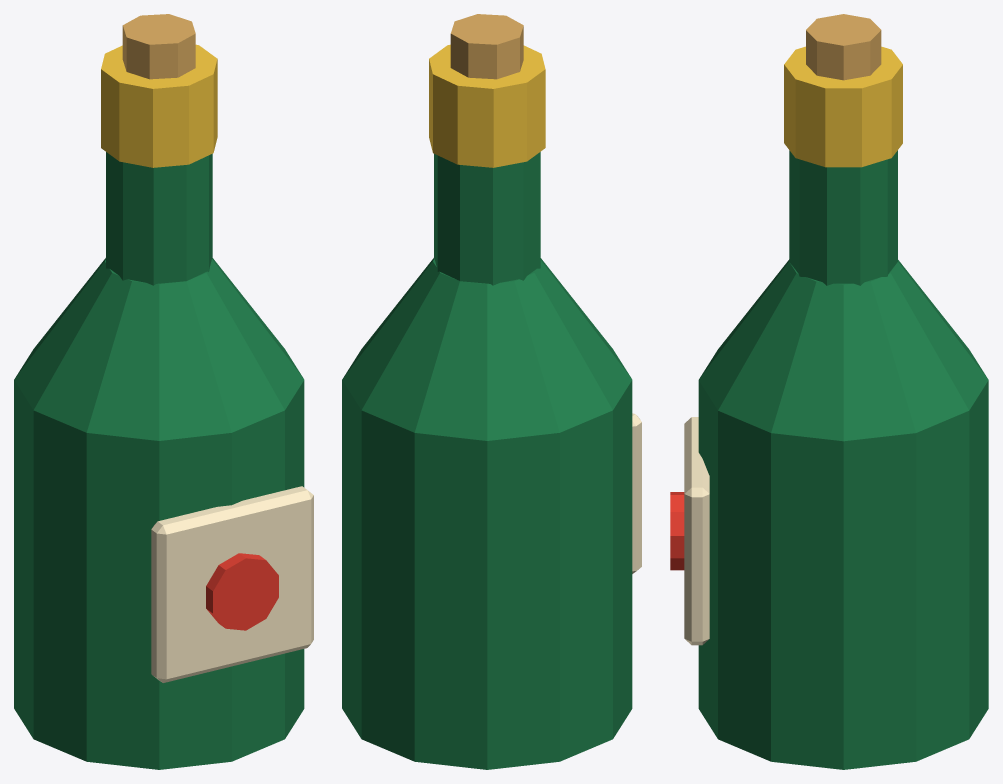
File: wine.glb
3 views of the same model, side by side, from view 1: azimuth 30°, elevation 25°; view 2: azimuth 150°, elevation 25°; view 3: azimuth 270°, elevation 25° (orthographic).
Visible parts, largest first — view 1: wine-bottle-body, wine-bottle-shoulder, wine-cream-label, wine-bottle-neck, wine-gold-foil, wine-red-label-seal, wine-cork; view 2: wine-bottle-body, wine-bottle-shoulder, wine-bottle-neck, wine-gold-foil, wine-cork, wine-cream-label; view 3: wine-bottle-body, wine-bottle-shoulder, wine-bottle-neck, wine-gold-foil, wine-cream-label, wine-cork, wine-red-label-seal.
Boxes of the visible parts, x1=… form: wine-bottle-body: x1=14, y1=380, x2=304, y2=769; wine-bottle-shoulder: x1=14, y1=258, x2=304, y2=440; wine-cream-label: x1=151, y1=486, x2=313, y2=682; wine-bottle-neck: x1=106, y1=152, x2=212, y2=285; wine-gold-foil: x1=101, y1=44, x2=217, y2=167; wine-red-label-seal: x1=206, y1=553, x2=278, y2=630; wine-cork: x1=122, y1=14, x2=195, y2=79; wine-bottle-body: x1=342, y1=380, x2=632, y2=769; wine-bottle-shoulder: x1=342, y1=258, x2=632, y2=440; wine-bottle-neck: x1=434, y1=152, x2=540, y2=285; wine-gold-foil: x1=429, y1=44, x2=545, y2=167; wine-cork: x1=450, y1=14, x2=523, y2=79; wine-cream-label: x1=632, y1=413, x2=641, y2=573; wine-bottle-body: x1=698, y1=380, x2=988, y2=769; wine-bottle-shoulder: x1=699, y1=259, x2=988, y2=441; wine-bottle-neck: x1=789, y1=150, x2=897, y2=285; wine-gold-foil: x1=784, y1=46, x2=902, y2=167; wine-cream-label: x1=684, y1=417, x2=709, y2=645; wine-cork: x1=806, y1=14, x2=881, y2=80; wine-red-label-seal: x1=670, y1=492, x2=684, y2=570.
Size of the model in its own units: 0.3874 by 1 by 0.4252.
